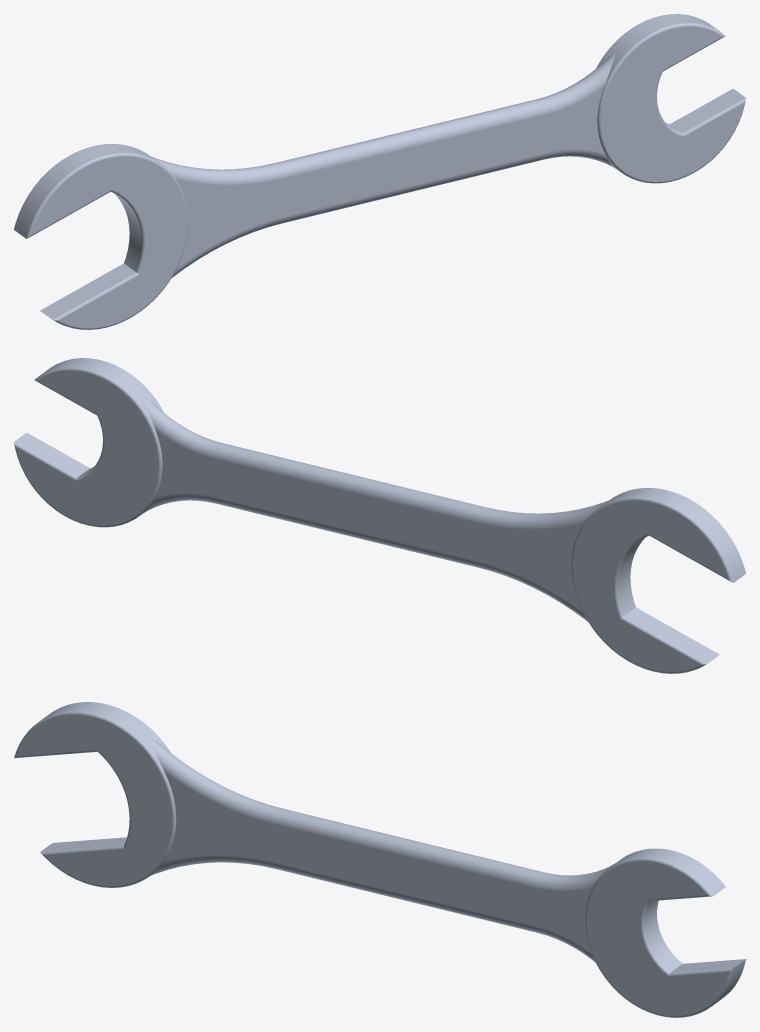
3 views of the same model, one above another, from view 1: azimuth 30°, elevation 25°; view 2: azimuth 150°, elevation 25°; view 3: azimuth 330°, elevation 25° (orthographic).
Visible parts, largest first — view 1: hw-05-02; view 2: hw-05-02; view 3: hw-05-02.
Boxes of the visible parts, x1,y1,x2,y2 form: hw-05-02: (14,14,745,329); hw-05-02: (14,358,745,673); hw-05-02: (14,702,745,1017).
Size of the model in its own units: 0.1398 by 0.032 by 0.005.
